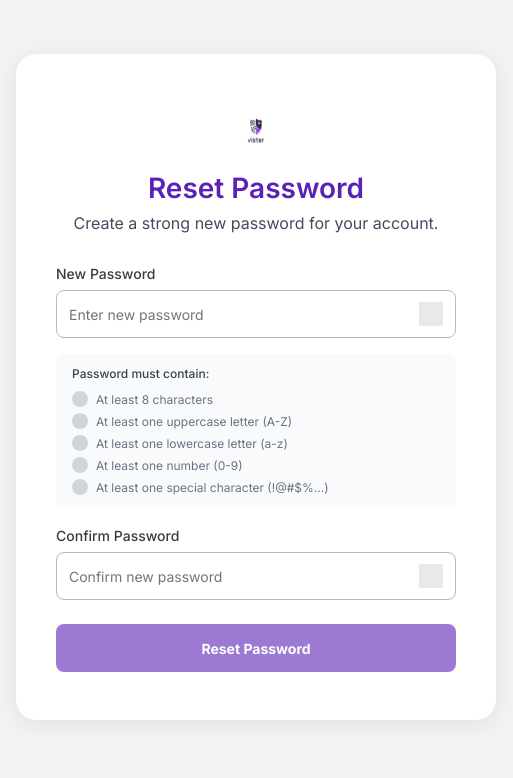
Test: ResetPassword › shows session expired error when email or otp is missing
Type "Strong@Pass1" into the password field with id "new-password" at (240, 314), box [69,306,411,322]
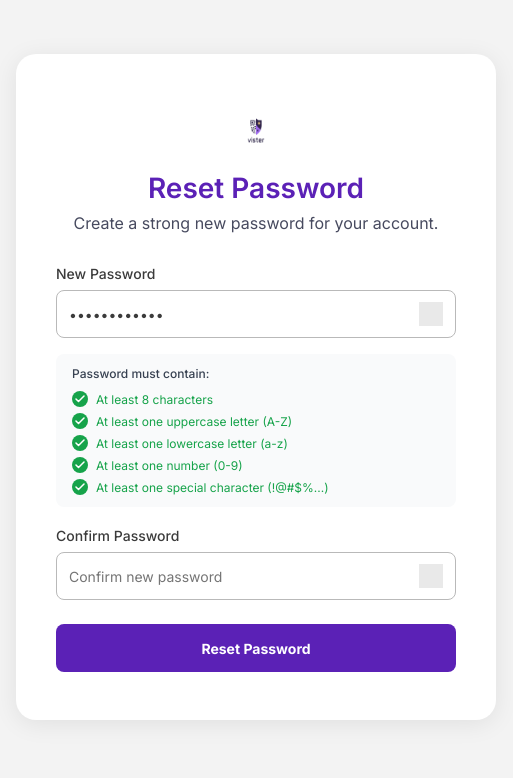
Type "Strong@Pass1" into the password field with id "confirm-password" at (240, 576), box [69,568,411,584]
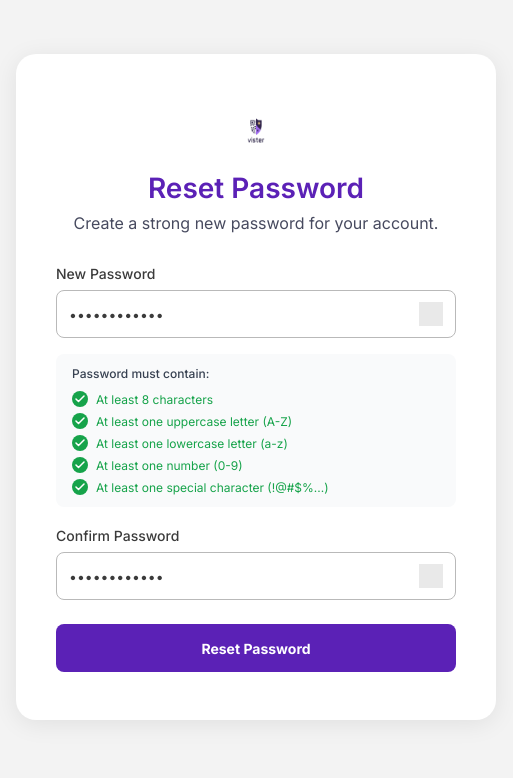
Submit the form named "reset password", box [56,265,456,672]
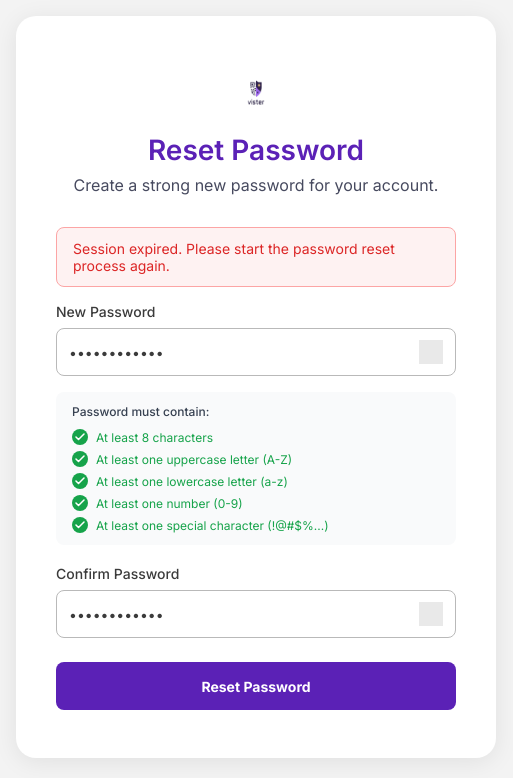
Result: the text "Session expired. Please start the password reset process again." is shown at [56,227,456,287]
